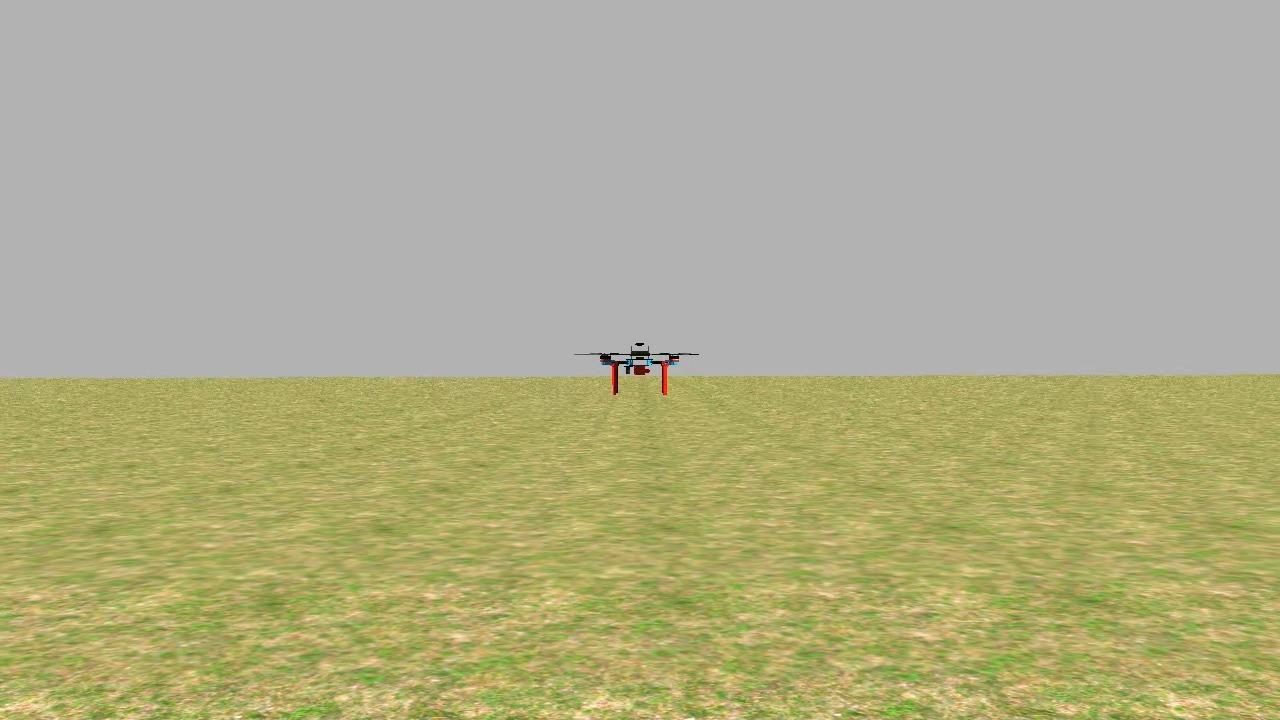UAV: (589, 331, 682, 400)
